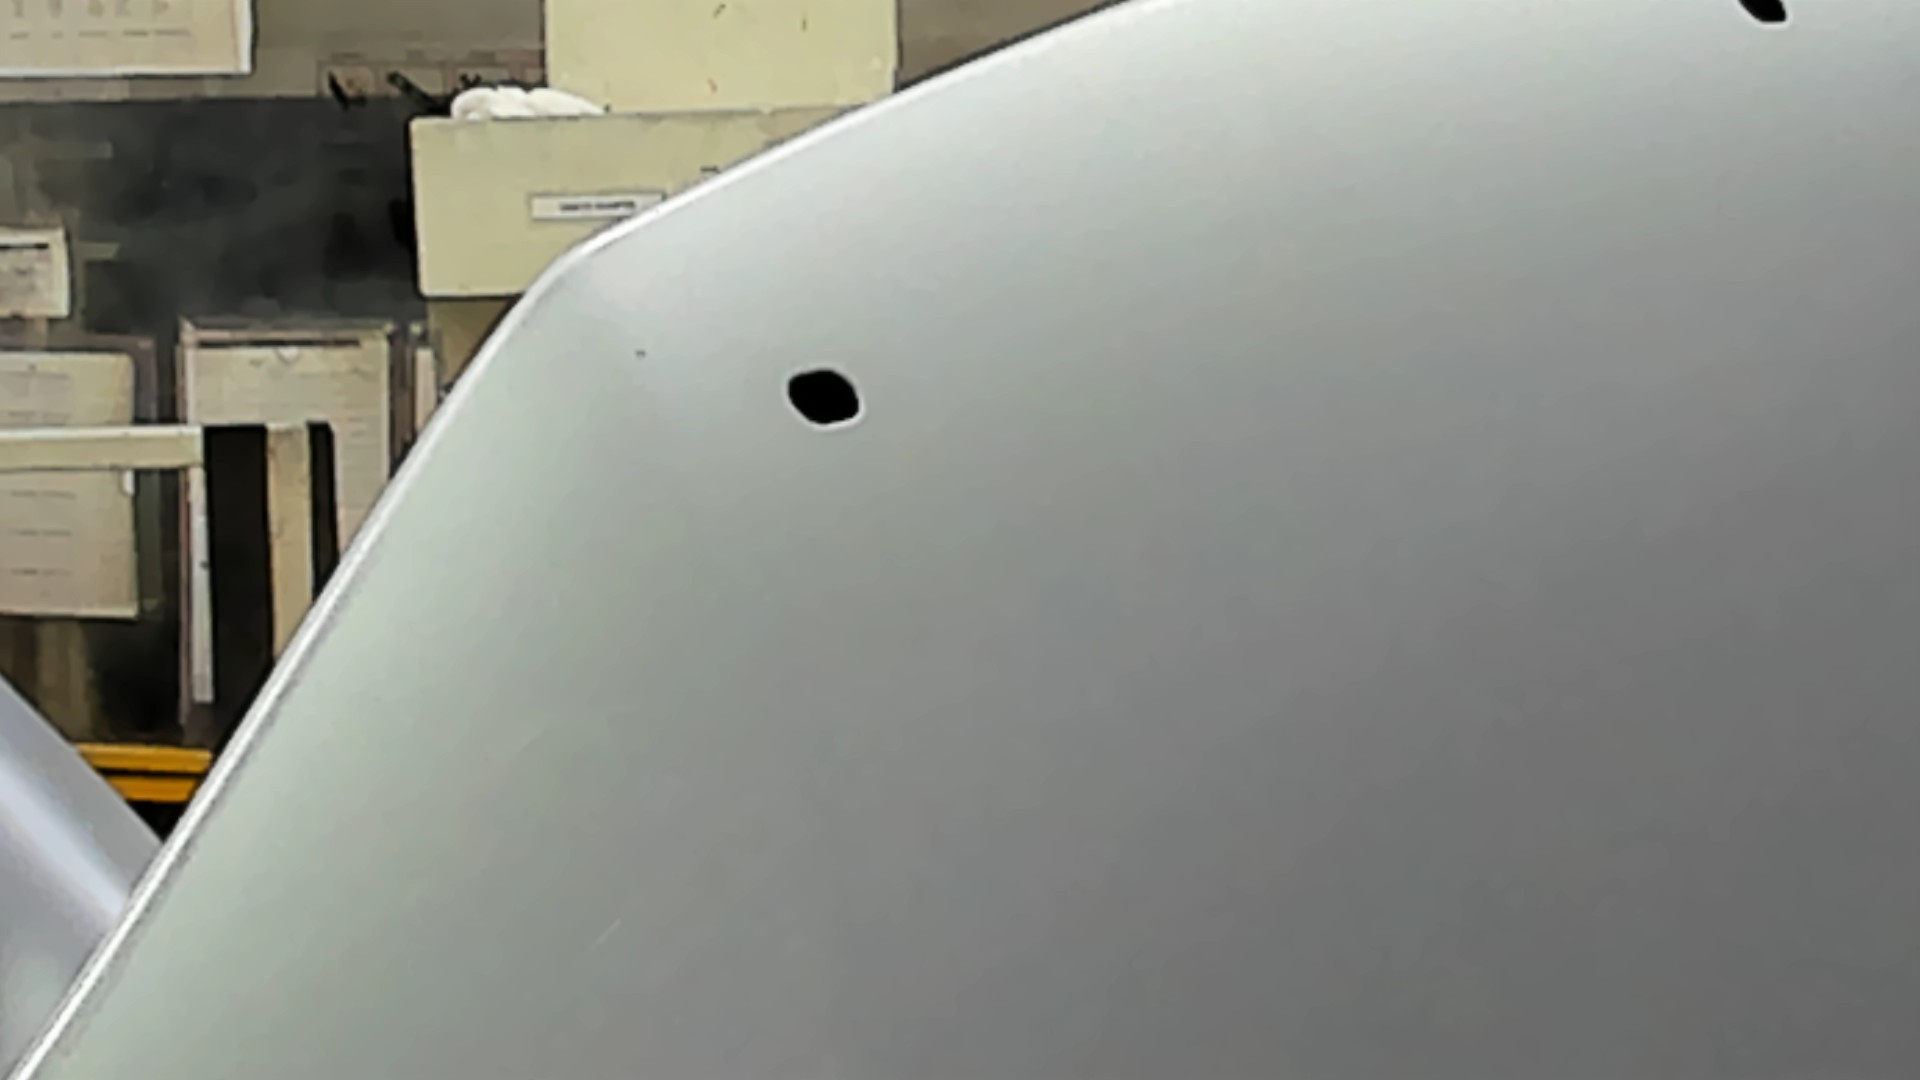amorfo: (783, 361, 872, 426), (1730, 1, 1795, 29)
